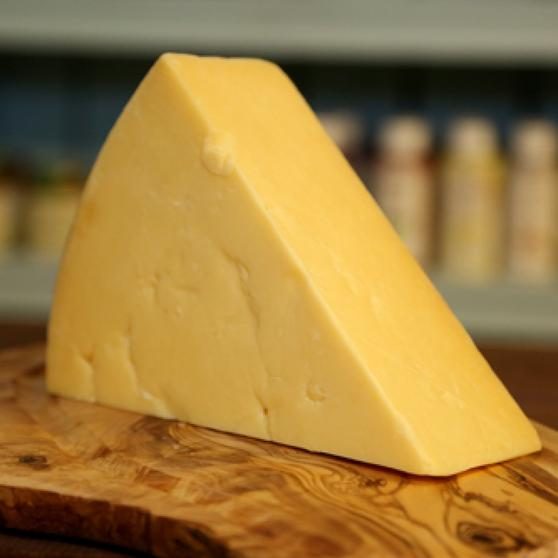cheese: (50, 52, 545, 478)
